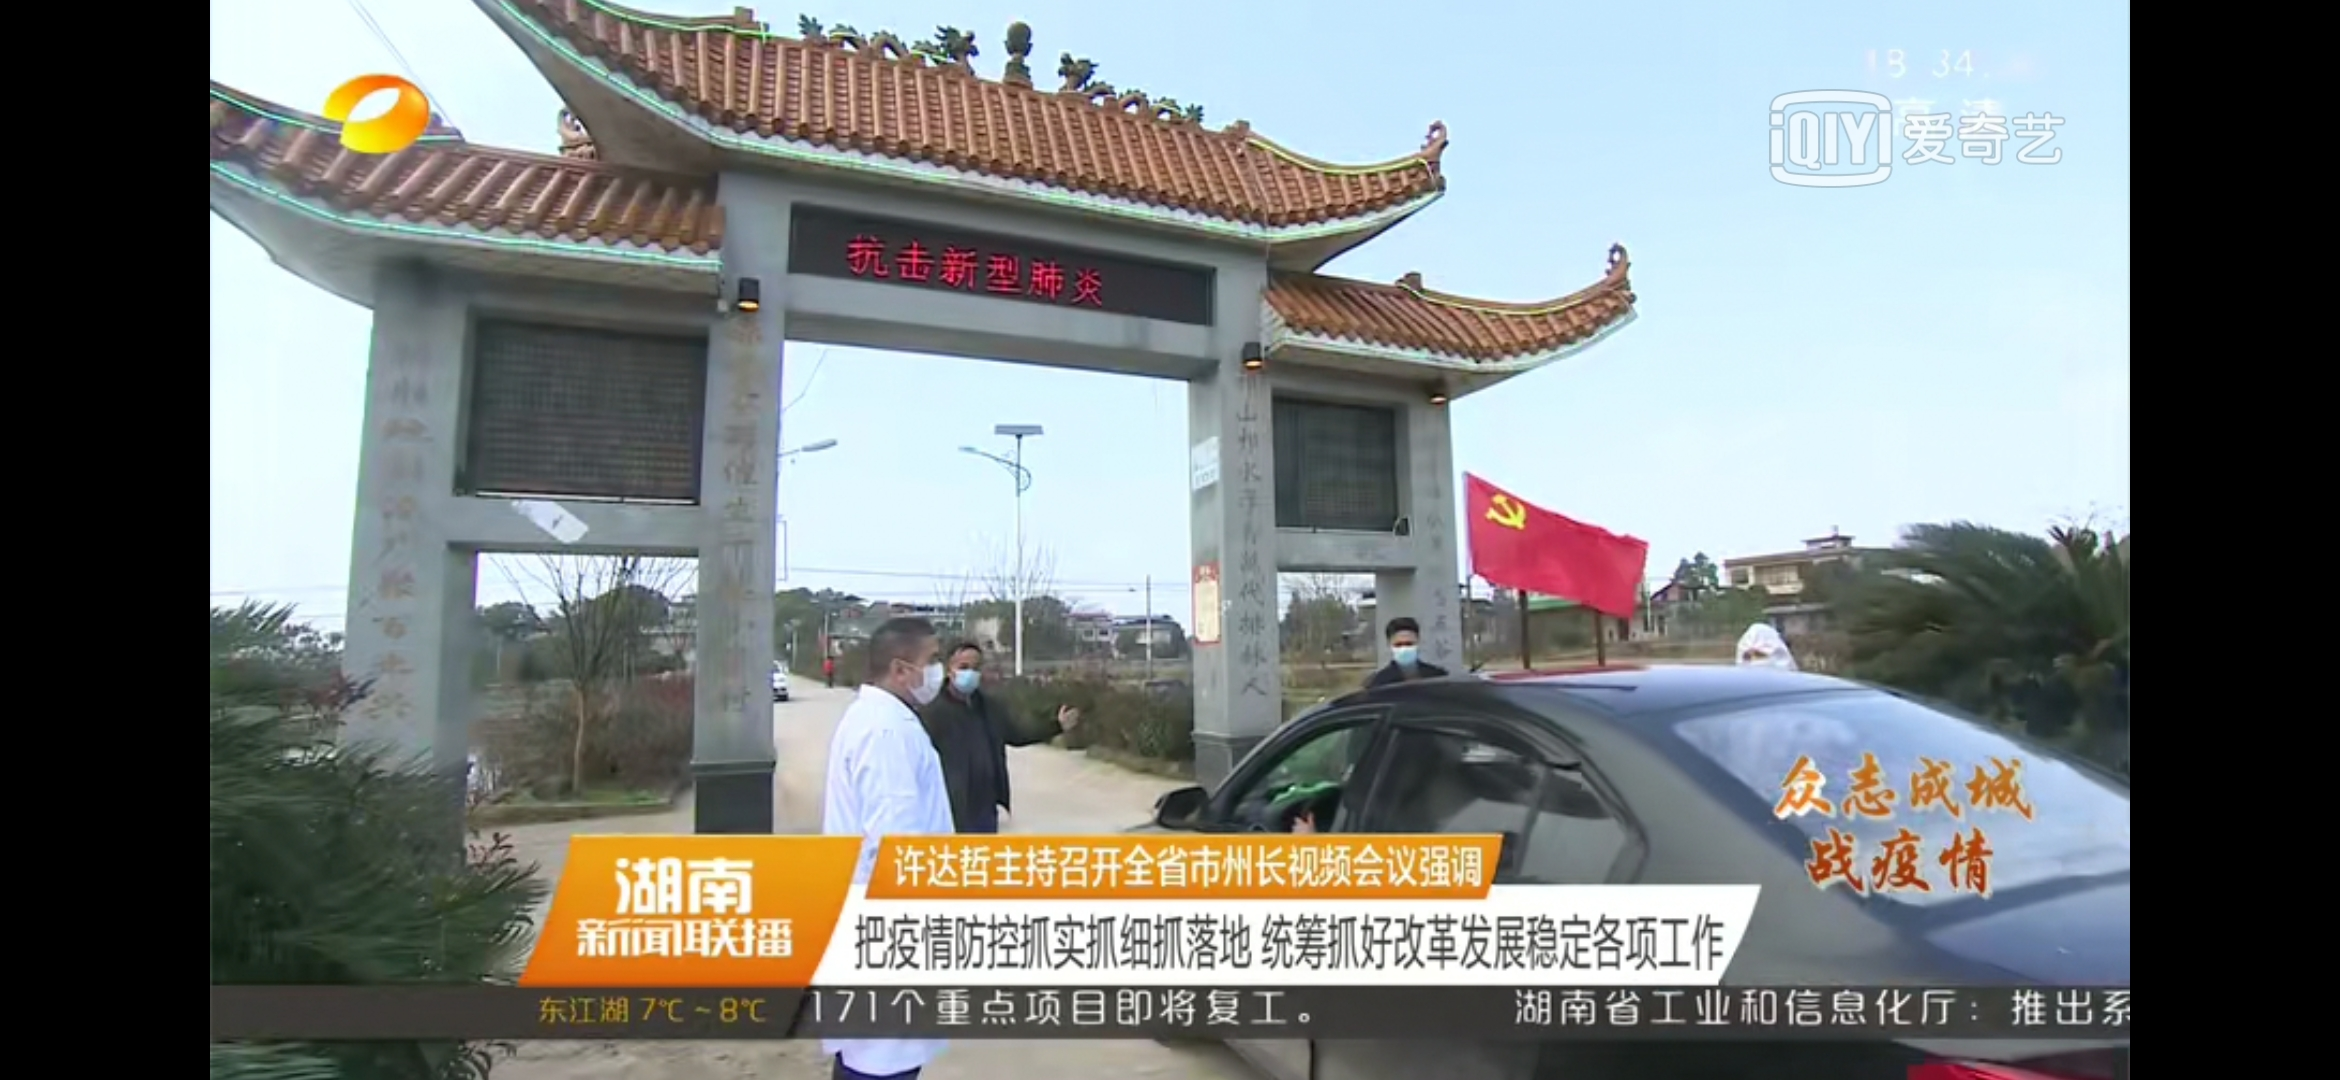correctlyWear: (891, 644, 945, 706), (948, 652, 985, 695), (1386, 627, 1421, 668)
